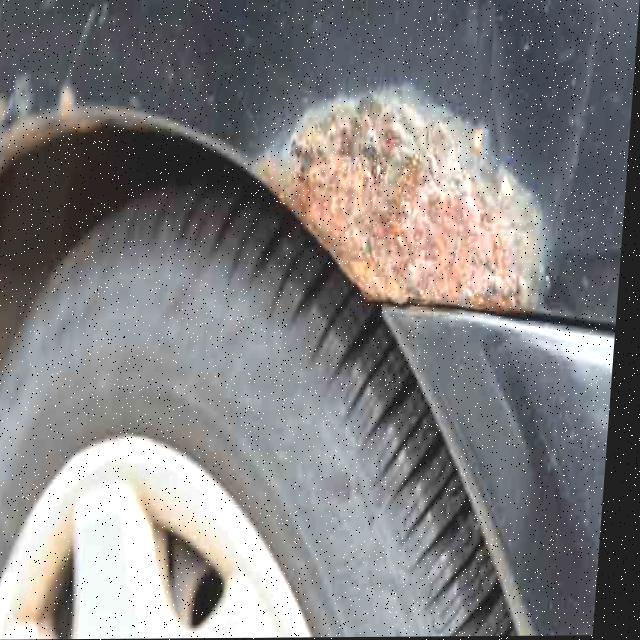corrosion: (249, 80, 561, 321)
